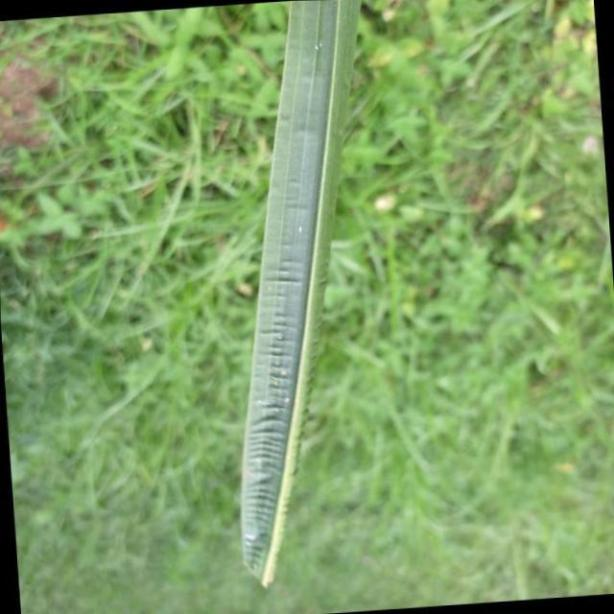Boron: (243, 0, 358, 591)
